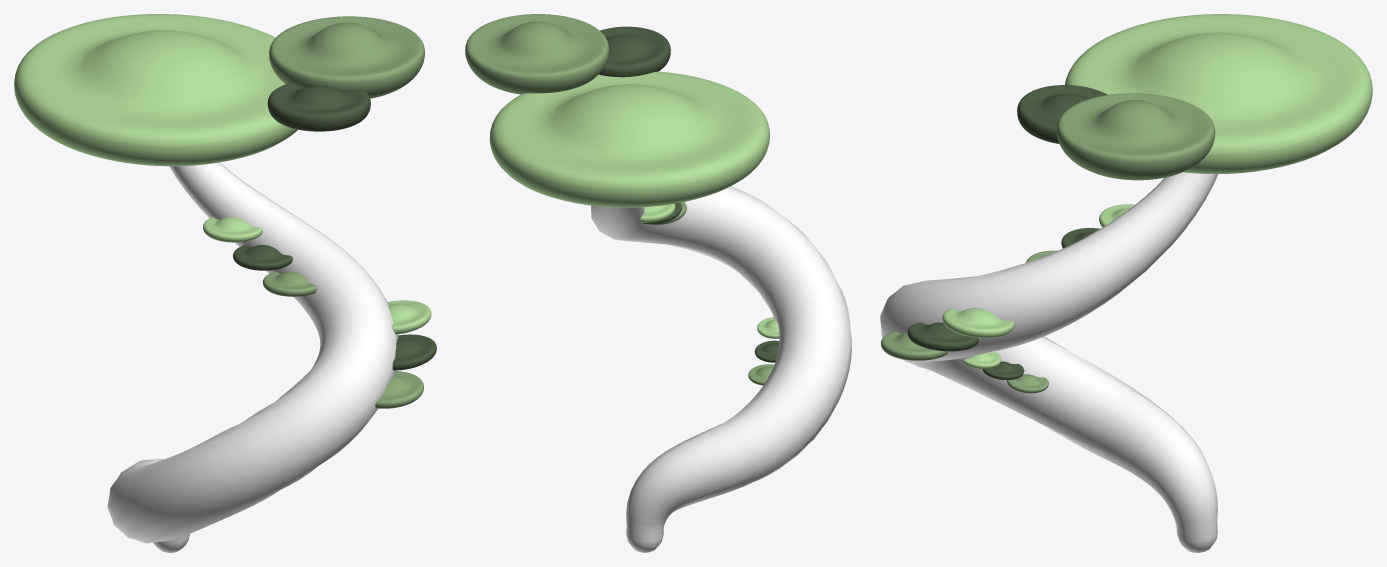
File: shroom_5.glb
3 renders of one model, left to right at view 1: azimuth 30°, elevation 25°; view 2: azimuth 150°, elevation 25°; view 3: azimuth 270°, elevation 25°, orthographic. The views are drawn at different scales.
Parts seen in each view (by area): view 1: s.0092; view 2: s.0092; view 3: s.0092.
Boxes of the visible parts, <box> form: s.0092: <box>14,14,436,552</box>; s.0092: <box>465,14,851,552</box>; s.0092: <box>880,14,1372,552</box>.
Bounding box in the file's own units: 1.24 × 1.78 × 1.53.
